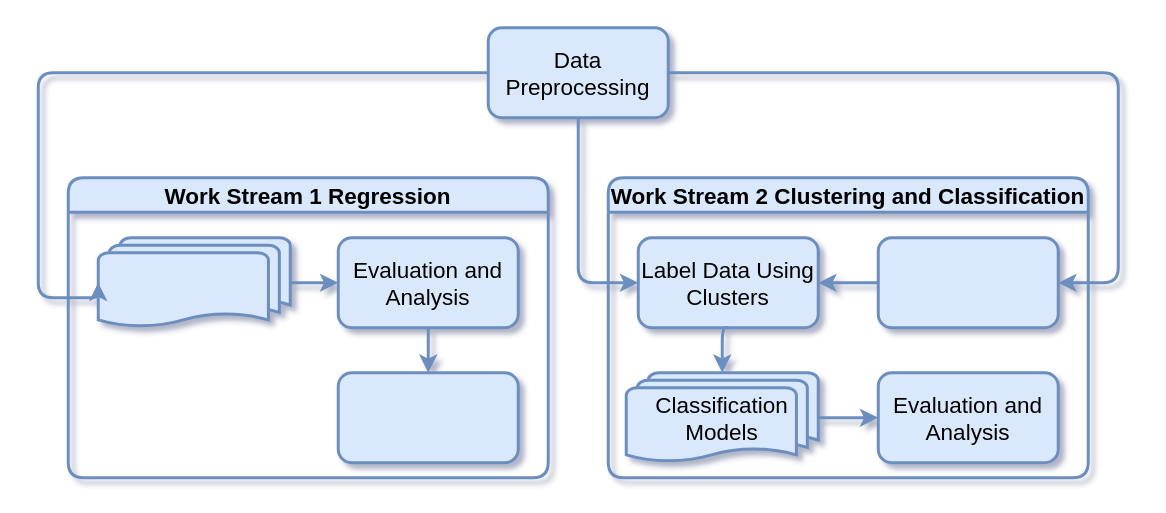
This 1166x513 diagram has some shape labels left out. Each missing label, with the centre of its shape:
Benchmark Manufactures: the point at 427,417
Clustering: the point at 967,282
Regression Models: the point at 193,282
